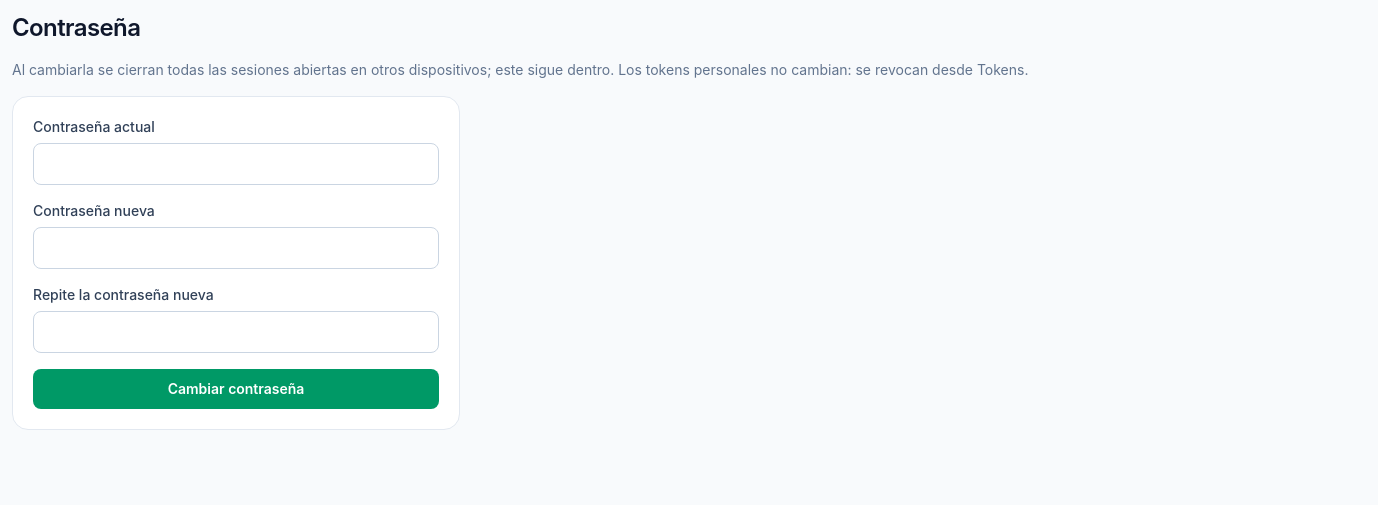
Test: PasswordPage › changes the password and confirms that other sessions are closed
The width and height of the screenshot is (1378, 505).
Step 1. Type "password123" into the password field labelled "Contraseña actual" → (236, 164), box [33,143,439,185]
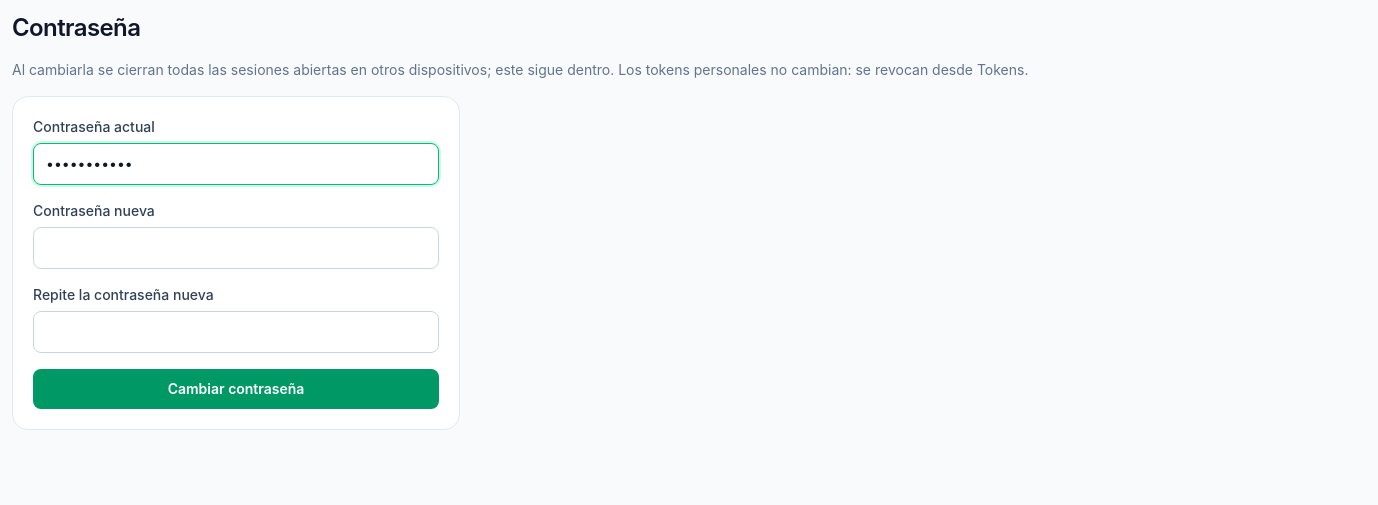
Step 2. Type "una-mejor-clave" into the password field labelled "Contraseña nueva" → (236, 248), box [33,227,439,269]
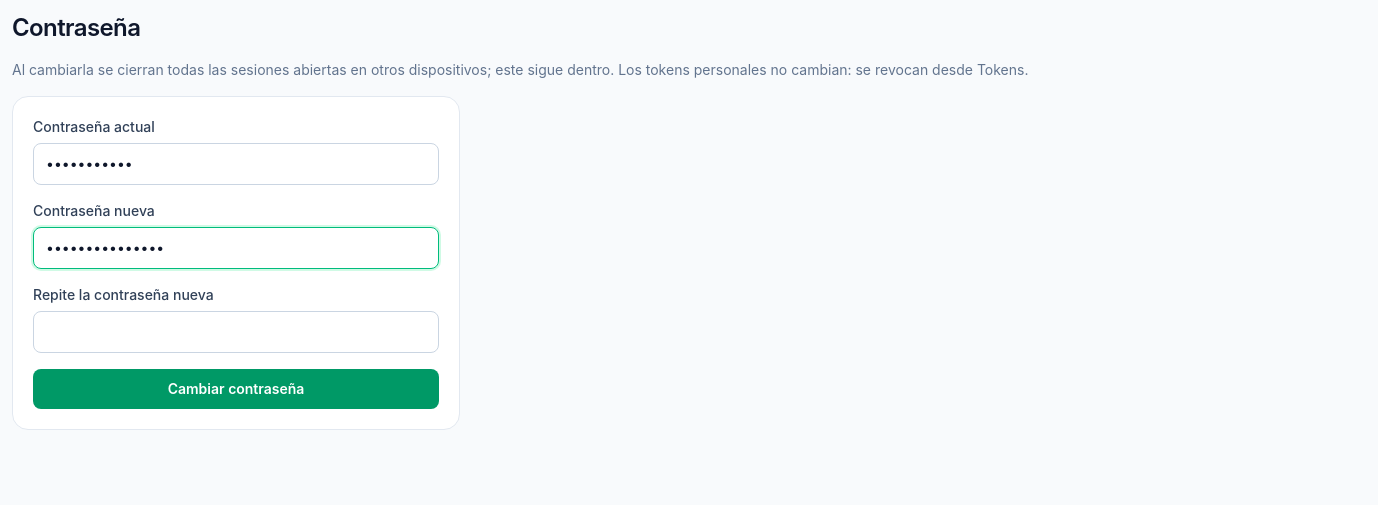
Step 3. Type "una-mejor-clave" into the password field labelled "Repite la contraseña nueva" → (236, 332), box [33,311,439,353]
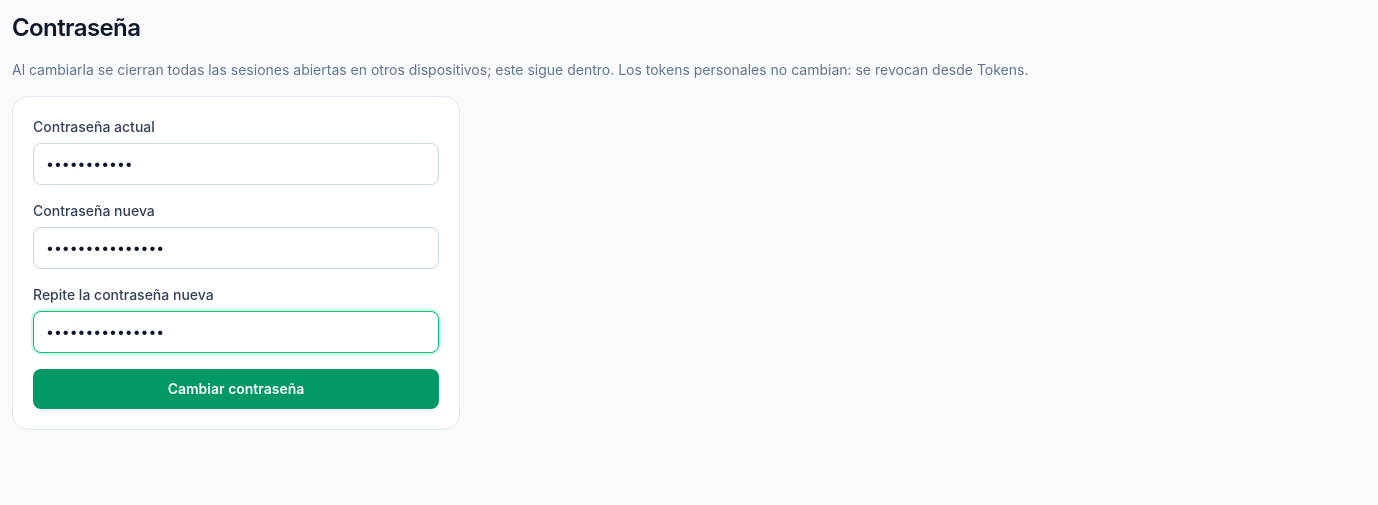
Step 4. Click the button "Cambiar contraseña" → (236, 389), box [33,369,439,409]
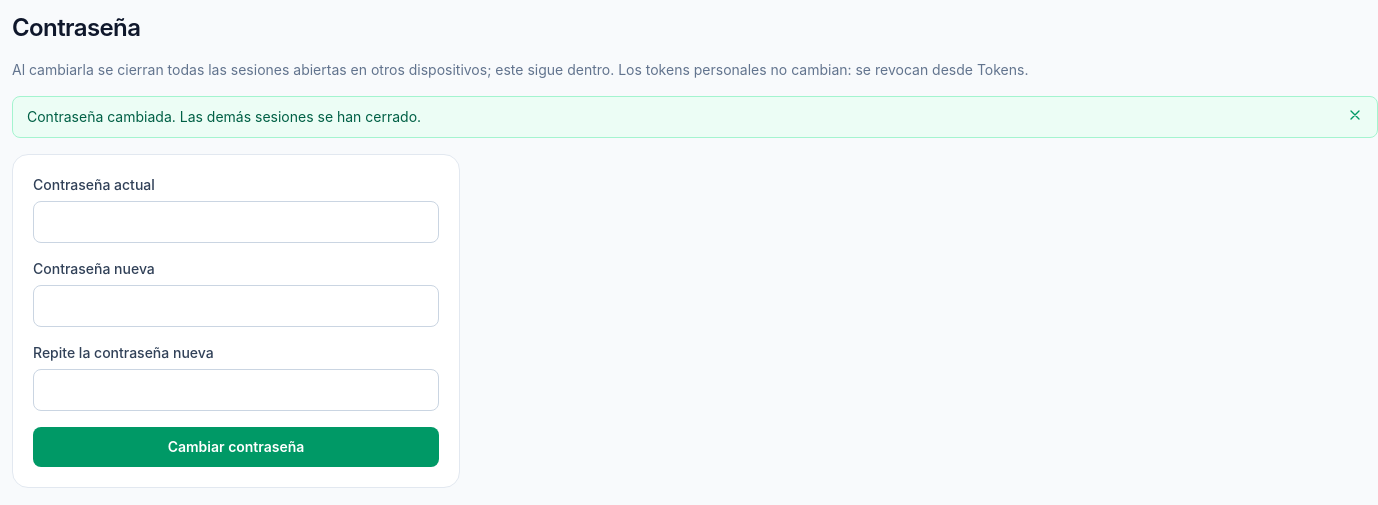
Check: the text "Contraseña cambiada. Las demás sesiones se han cerrado." is shown, box [27,107,421,127]
